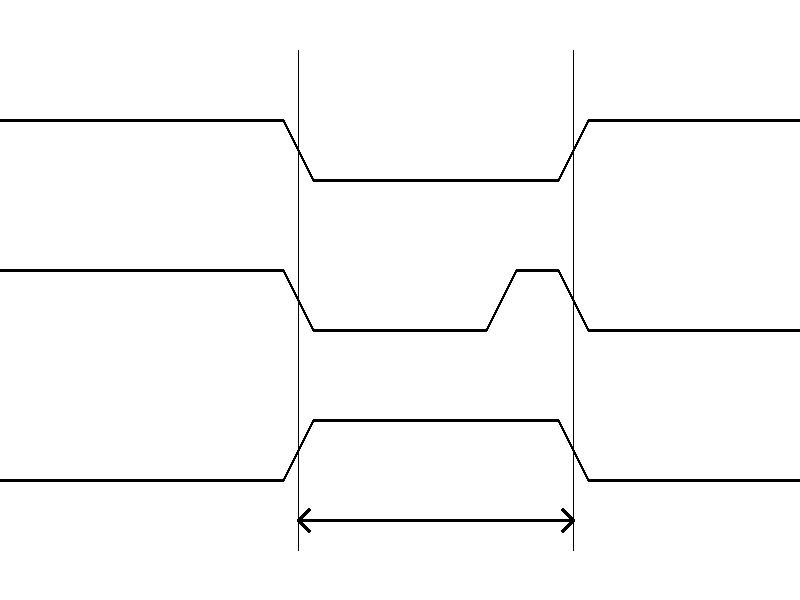double_arrow: (298, 505, 573, 535)
